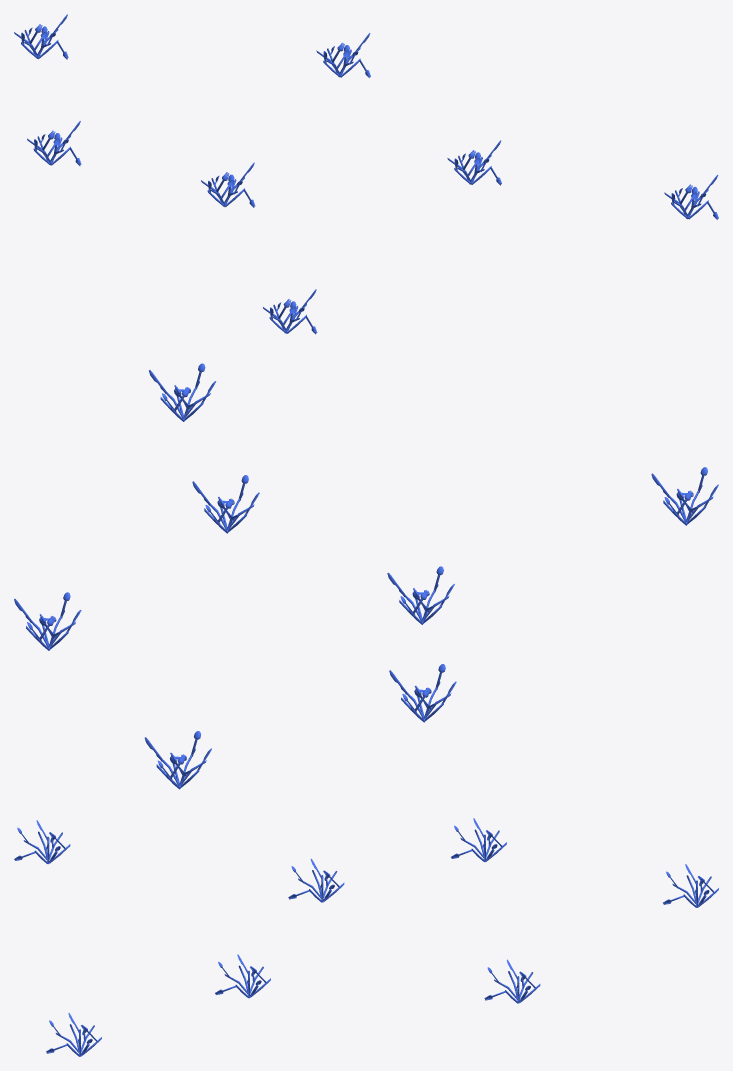
Rendered from BlueCoralMany.gltf.
The picture shows the model from 3 angles, top to bottom: view 1: azimuth 30°, elevation 25°; view 2: azimuth 150°, elevation 25°; view 3: azimuth 270°, elevation 25°; orthographic projection. The views are drawn at different scales.
Visible parts, largest first — view 1: PinkCoralMany; view 2: PinkCoralMany; view 3: PinkCoralMany.
Boxes of the visible parts, bbox=[...] form: PinkCoralMany: bbox=[14, 14, 718, 334]; PinkCoralMany: bbox=[14, 363, 718, 789]; PinkCoralMany: bbox=[14, 818, 718, 1056].
Bounding box in the file's own units: 24.95 × 1.92 × 33.96.
